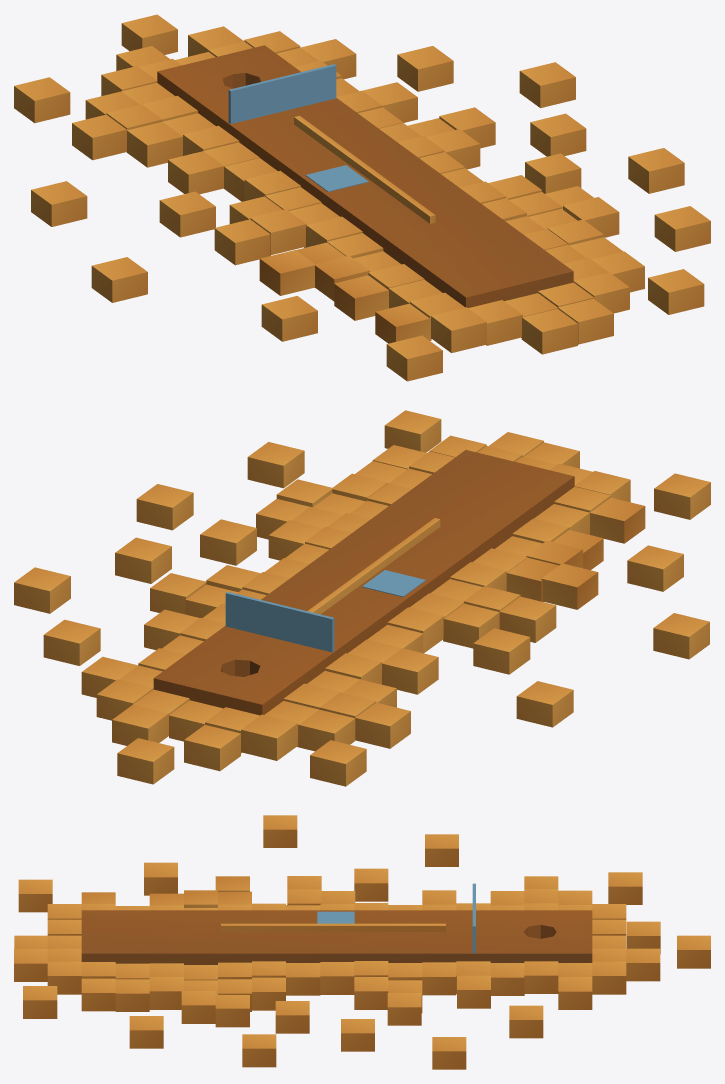
File: Level_01_04.fbx
The picture shows the model from 3 angles, top to bottom: view 1: azimuth 30°, elevation 25°; view 2: azimuth 150°, elevation 25°; view 3: azimuth 270°, elevation 25°; orthographic projection. The views are drawn at different scales.
Parts seen in each view (by area): view 1: base, pCube176, pCube173, pCube169, pCube166, pCube163, pCube174, pCube172, pCube168, pCube167, pCube165, pCube164 (+59 smaller); view 2: base, pCube176, pCube173, pCube172, pCube170, pCube168, pCube164, pCube163, pCube150, pCube167, pCube93, pCube171 (+62 smaller); view 3: base, pCube175, pCube172, pCube89, pCube69, pCube163, pCube140, pCube126, pCube168, pCube136, pCube170, pCube138 (+59 smaller).
Part boxes in pixels (<box>): base: <box>157,45,573,307</box>; pCube176: <box>228,64,336,123</box>; pCube173: <box>31,181,87,226</box>; pCube169: <box>14,77,70,123</box>; pCube166: <box>386,335,442,381</box>; pCube163: <box>397,46,453,91</box>; pCube174: <box>91,257,147,302</box>; pCube172: <box>628,148,684,193</box>; pCube168: <box>159,191,215,237</box>; pCube167: <box>261,296,317,341</box>; pCube165: <box>648,269,704,314</box>; pCube164: <box>654,206,710,251</box>; base: <box>153,450,574,715</box>; pCube176: <box>225,592,334,652</box>; pCube173: <box>516,681,573,727</box>; pCube172: <box>136,484,193,530</box>; pCube170: <box>117,738,174,784</box>; pCube168: <box>473,628,530,674</box>; pCube164: <box>247,442,304,488</box>; pCube163: <box>43,619,100,665</box>; pCube150: <box>541,563,598,609</box>; pCube167: <box>627,545,683,591</box>; pCube93: <box>241,714,297,760</box>; pCube171: <box>14,567,70,613</box>; base: <box>81,910,592,964</box>; pCube175: <box>221,923,445,931</box>; pCube172: <box>242,1034,276,1067</box>; pCube89: <box>592,961,626,994</box>; pCube69: <box>422,962,456,995</box>; pCube163: <box>509,1005,543,1038</box>; pCube140: <box>626,948,660,981</box>; pCube126: <box>81,978,115,1011</box>; pCube168: <box>354,868,388,901</box>; pCube136: <box>215,994,249,1027</box>; pCube170: <box>677,935,710,968</box>; pCube138: <box>457,975,490,1008</box>.
Size of what is drawn, in the model's own units: 15.86 by 1.88 by 20.46.
3 materials, 3 textured.
